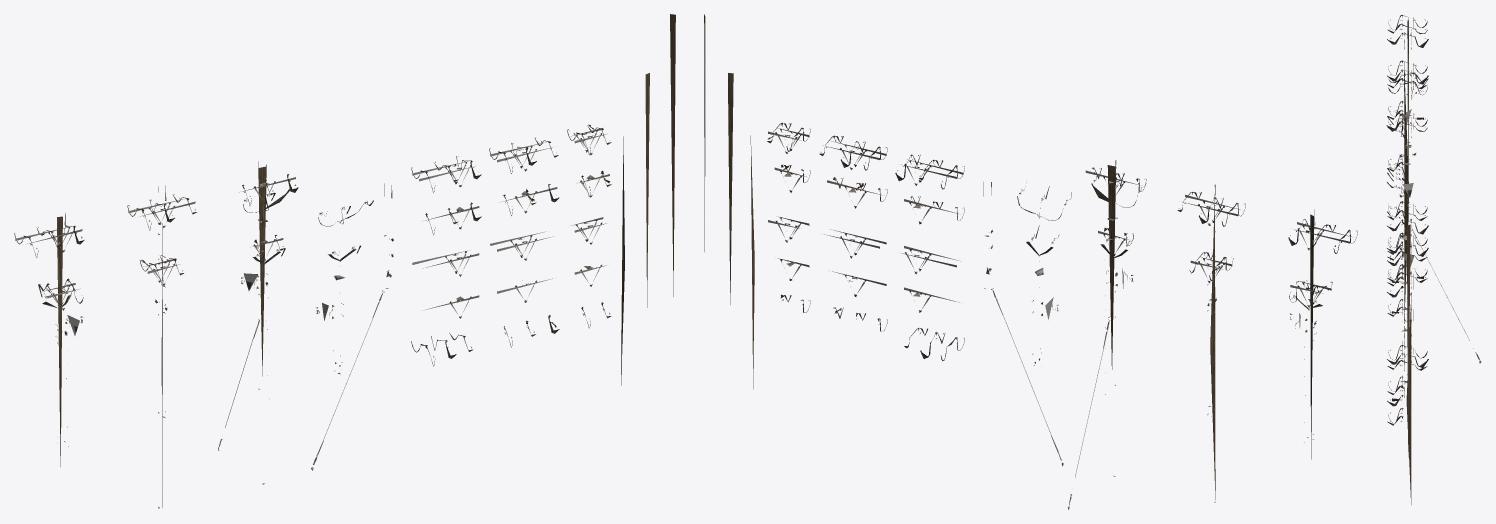
3 renders of one model, left to right at view 1: azimuth 30°, elevation 25°; view 2: azimuth 150°, elevation 25°; view 3: azimuth 270°, elevation 25°, orthographic. The views are drawn at different scales.
Visible parts, largest first — view 1: bolt_large.001, bolt_large; view 2: bolt_large.001, bolt_large; view 3: bolt_large.001, bolt_large.
Part boxes in pixels (box(x1,y1,x2,y2)): bolt_large.001: box(14, 124, 611, 508); bolt_large: box(57, 14, 675, 507); bolt_large.001: box(767, 122, 1357, 509); bolt_large: box(704, 14, 1313, 499); bolt_large.001: box(1386, 15, 1481, 425); bolt_large: box(1404, 20, 1411, 504).
Bounding box in the file's own units: 13.07 × 7.01 × 1.98.
2 materials, 2 textured.
